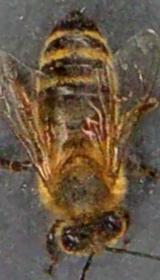varroa_mite: (70, 116, 112, 142)
